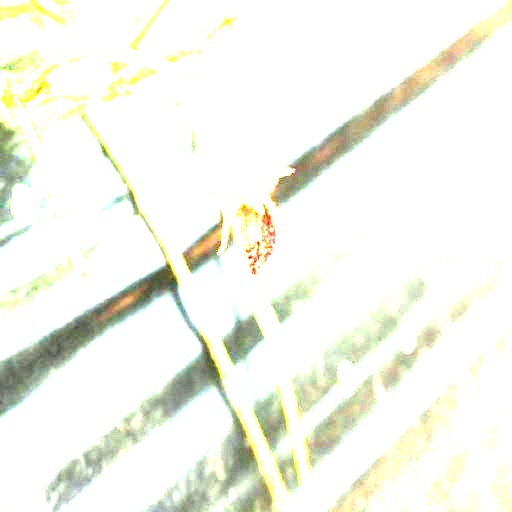Gray Mold: (197, 145, 295, 282)
